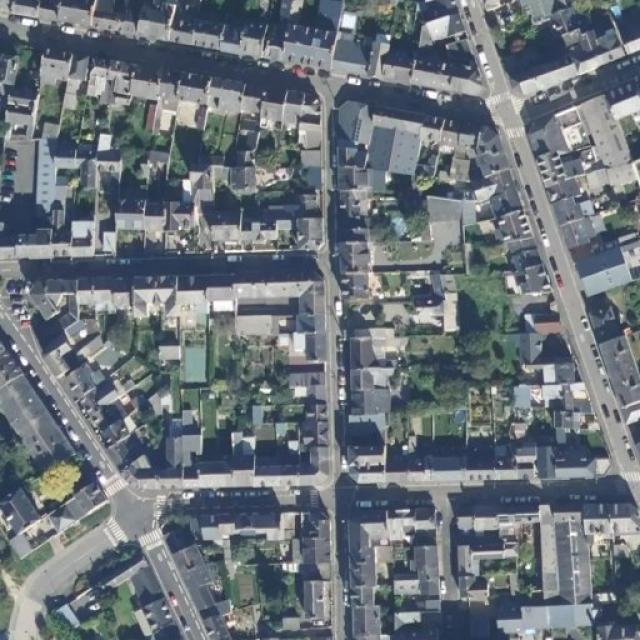immeuble: (347, 500, 449, 640), (467, 158, 554, 298), (128, 443, 332, 499), (0, 334, 84, 468), (335, 98, 431, 197), (522, 312, 592, 441), (344, 327, 402, 482), (0, 476, 106, 558), (531, 96, 636, 171), (201, 260, 327, 322), (209, 194, 325, 258), (482, 0, 629, 50), (393, 440, 533, 490), (538, 493, 596, 608), (0, 67, 43, 207), (196, 505, 332, 549), (115, 197, 218, 252), (334, 159, 372, 306), (46, 128, 128, 196), (442, 120, 516, 195), (590, 315, 640, 425), (322, 20, 398, 87), (185, 18, 295, 63), (0, 220, 110, 265), (411, 48, 501, 102), (80, 54, 162, 113), (31, 278, 133, 322), (129, 269, 209, 325), (153, 59, 212, 134), (299, 510, 333, 638), (278, 17, 356, 72), (365, 34, 434, 94), (574, 234, 638, 296), (205, 66, 263, 132), (289, 366, 335, 441), (133, 7, 209, 52), (59, 0, 142, 40), (257, 83, 324, 132), (526, 442, 608, 482), (455, 501, 542, 537), (555, 196, 613, 249), (582, 494, 640, 546), (282, 306, 332, 365), (40, 45, 87, 102), (6, 0, 64, 25)
